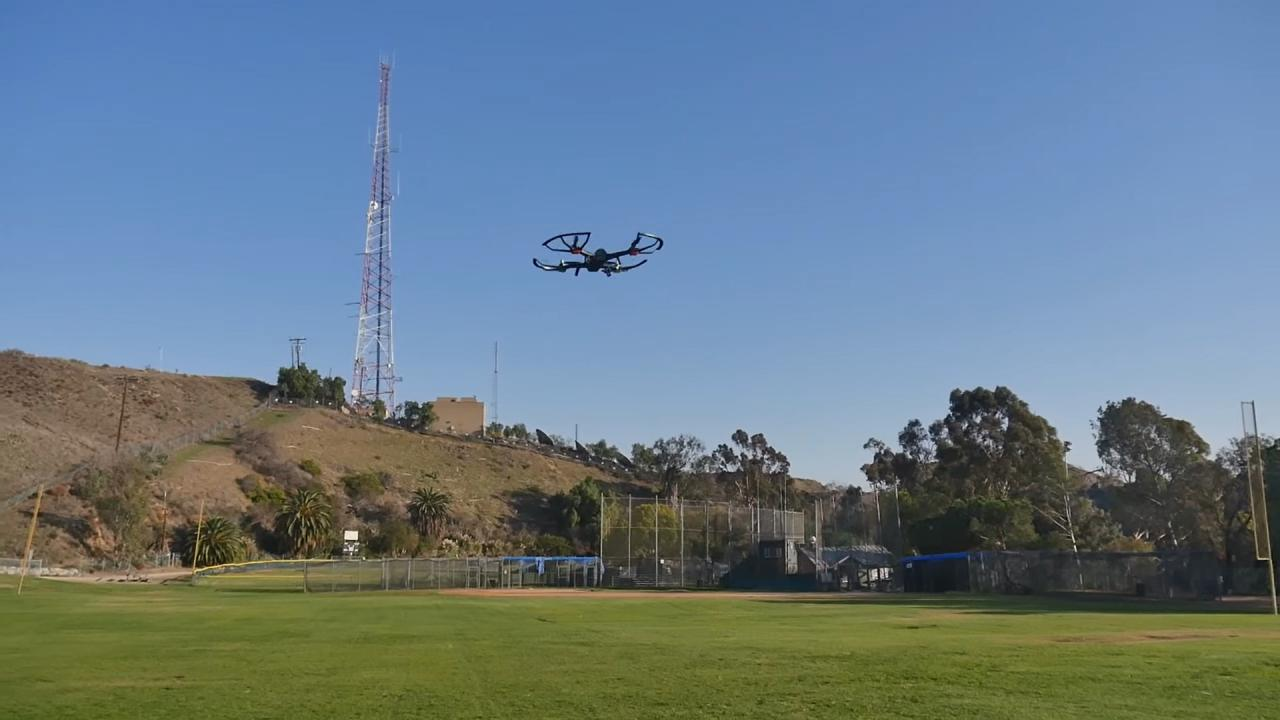Drone: (526, 222, 674, 286)
